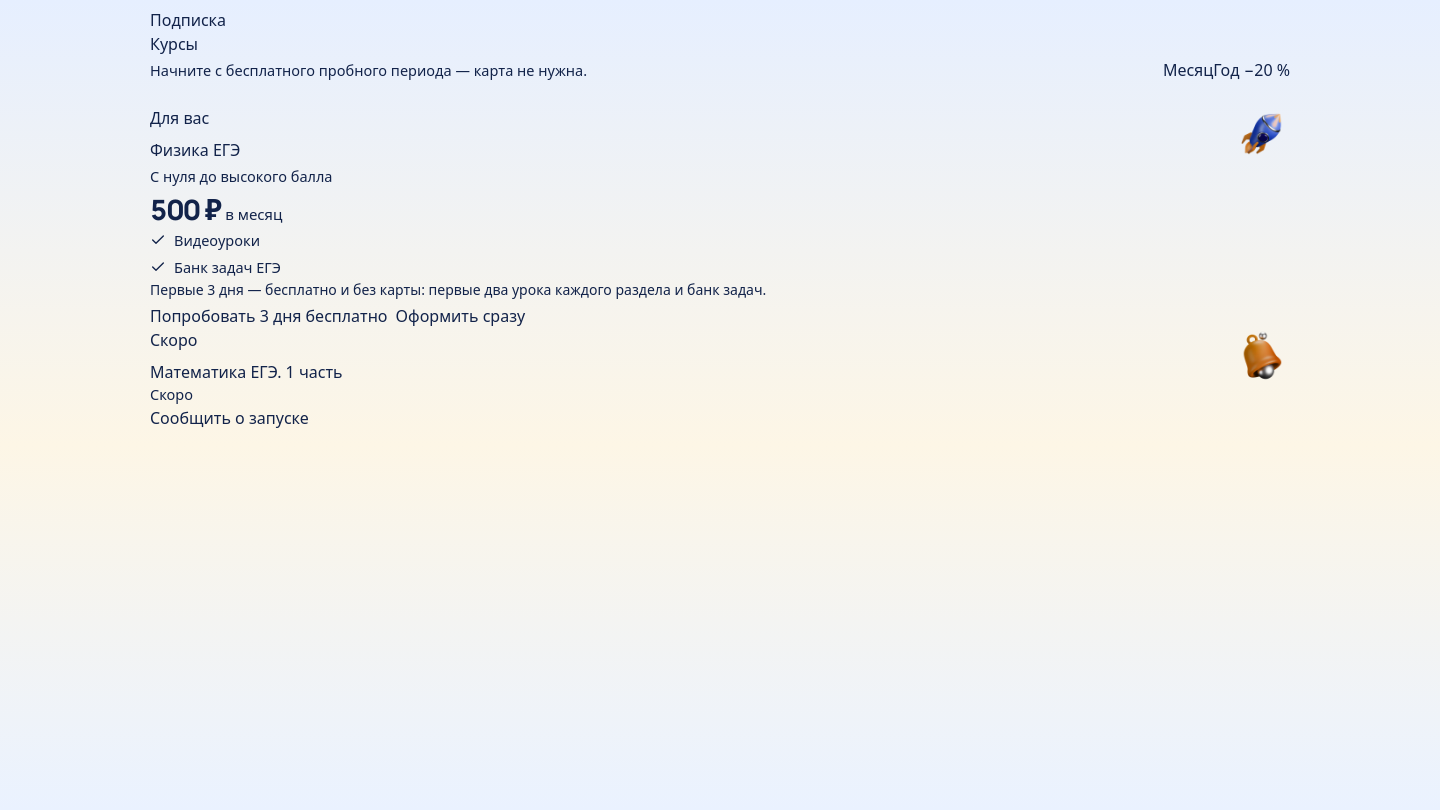
Test case: «Курсы» › после анкеты курс предмета первым; цены месяц/год и −20 %; переключатель периода ведёт на нужный тариф
Expected: the element with test id "course-card" shows "Для вас", 150,107 -> 209,129
Expected: the element with test id "course-card" does not show "/мес или", 150,106 -> 1290,328
Click the button with test id "courses-period-12": (1252, 70) 1213,58 -> 1290,82
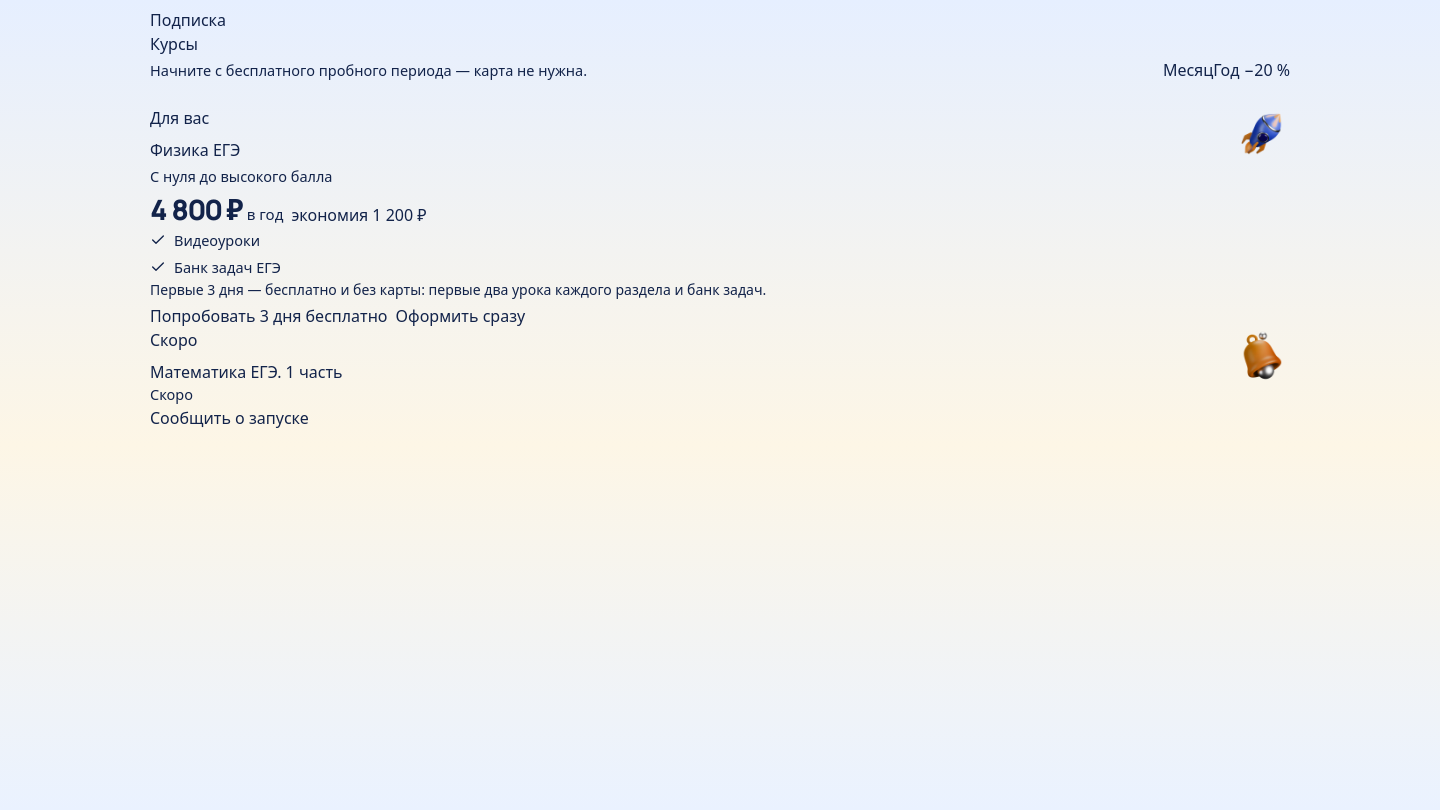
Now the text with test id "course-card-saving" reads "экономия 1 200 ₽", box 291,204 -> 427,226
